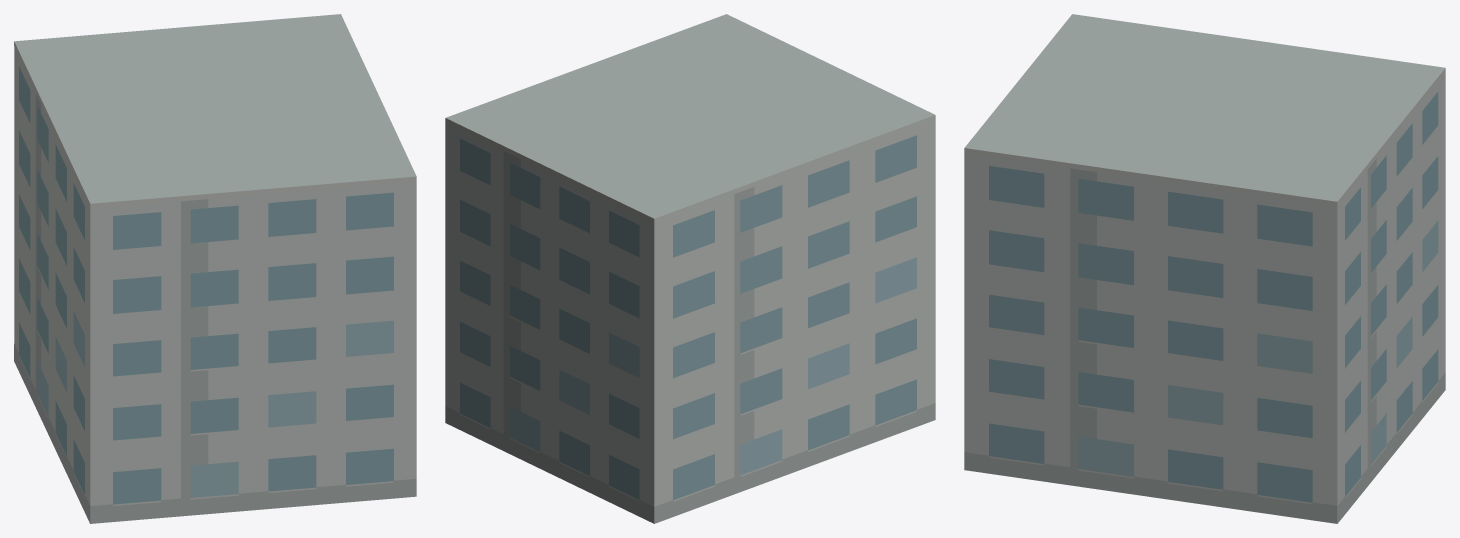
Rendered from residential-00c393ce-47fb-48bb-8b0f-e1a9d140561d.glb.
3 renders of one model, left to right at view 1: azimuth 30°, elevation 25°; view 2: azimuth 150°, elevation 25°; view 3: azimuth 270°, elevation 25°, orthographic. The views are drawn at different scales.
Parts seen in each view (by area): view 1: residential-00c393ce-47fb-48bb-8b0f-e1a9d140561d.tmp; view 2: residential-00c393ce-47fb-48bb-8b0f-e1a9d140561d.tmp; view 3: residential-00c393ce-47fb-48bb-8b0f-e1a9d140561d.tmp.
Part boxes in pixels (x1,y1,x2,y2): residential-00c393ce-47fb-48bb-8b0f-e1a9d140561d.tmp: (14, 14, 416, 523); residential-00c393ce-47fb-48bb-8b0f-e1a9d140561d.tmp: (445, 14, 935, 523); residential-00c393ce-47fb-48bb-8b0f-e1a9d140561d.tmp: (964, 14, 1445, 523).
Bounding box in the file's own units: 19.08 × 15.25 × 20.66.
